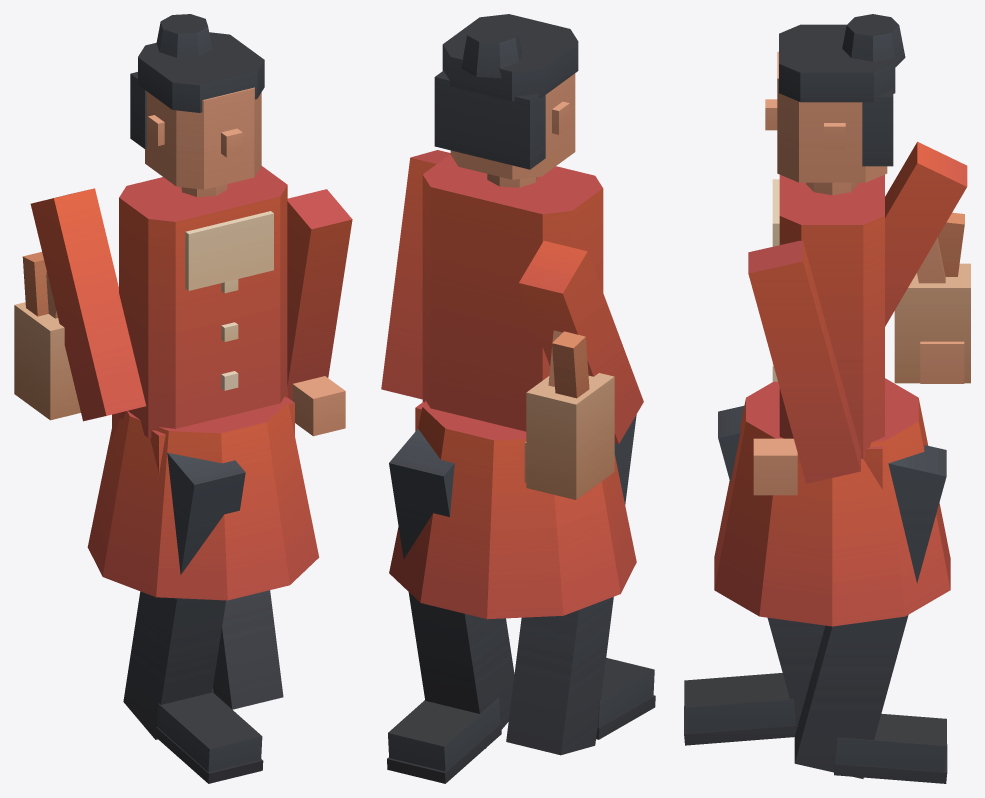
Rendered from citizen_coat_f.glb.
3 views of the same model, side by side, from view 1: azimuth 30°, elevation 25°; view 2: azimuth 150°, elevation 25°; view 3: azimuth 270°, elevation 25° (orthographic). The views are drawn at different scales.
Visible parts, largest first — view 1: citizen_coat_f; view 2: citizen_coat_f; view 3: citizen_coat_f.
Boxes of the visible parts, x1,y1,x2,y2 form: citizen_coat_f: (14,14,352,783); citizen_coat_f: (381,14,655,783); citizen_coat_f: (684,14,970,783).
Size of the model in its own units: 0.603 by 1.68 by 0.6005.
1 material, 1 textured.
